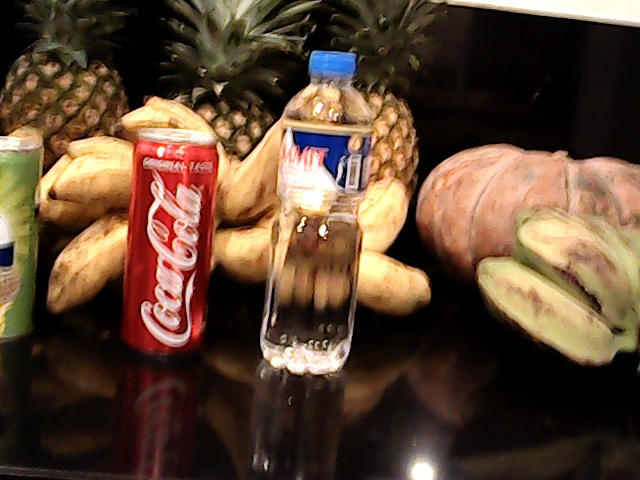Cola: (119, 122, 213, 350)
Pine Juice: (1, 124, 48, 342)
Summit Water: (265, 55, 365, 374)
